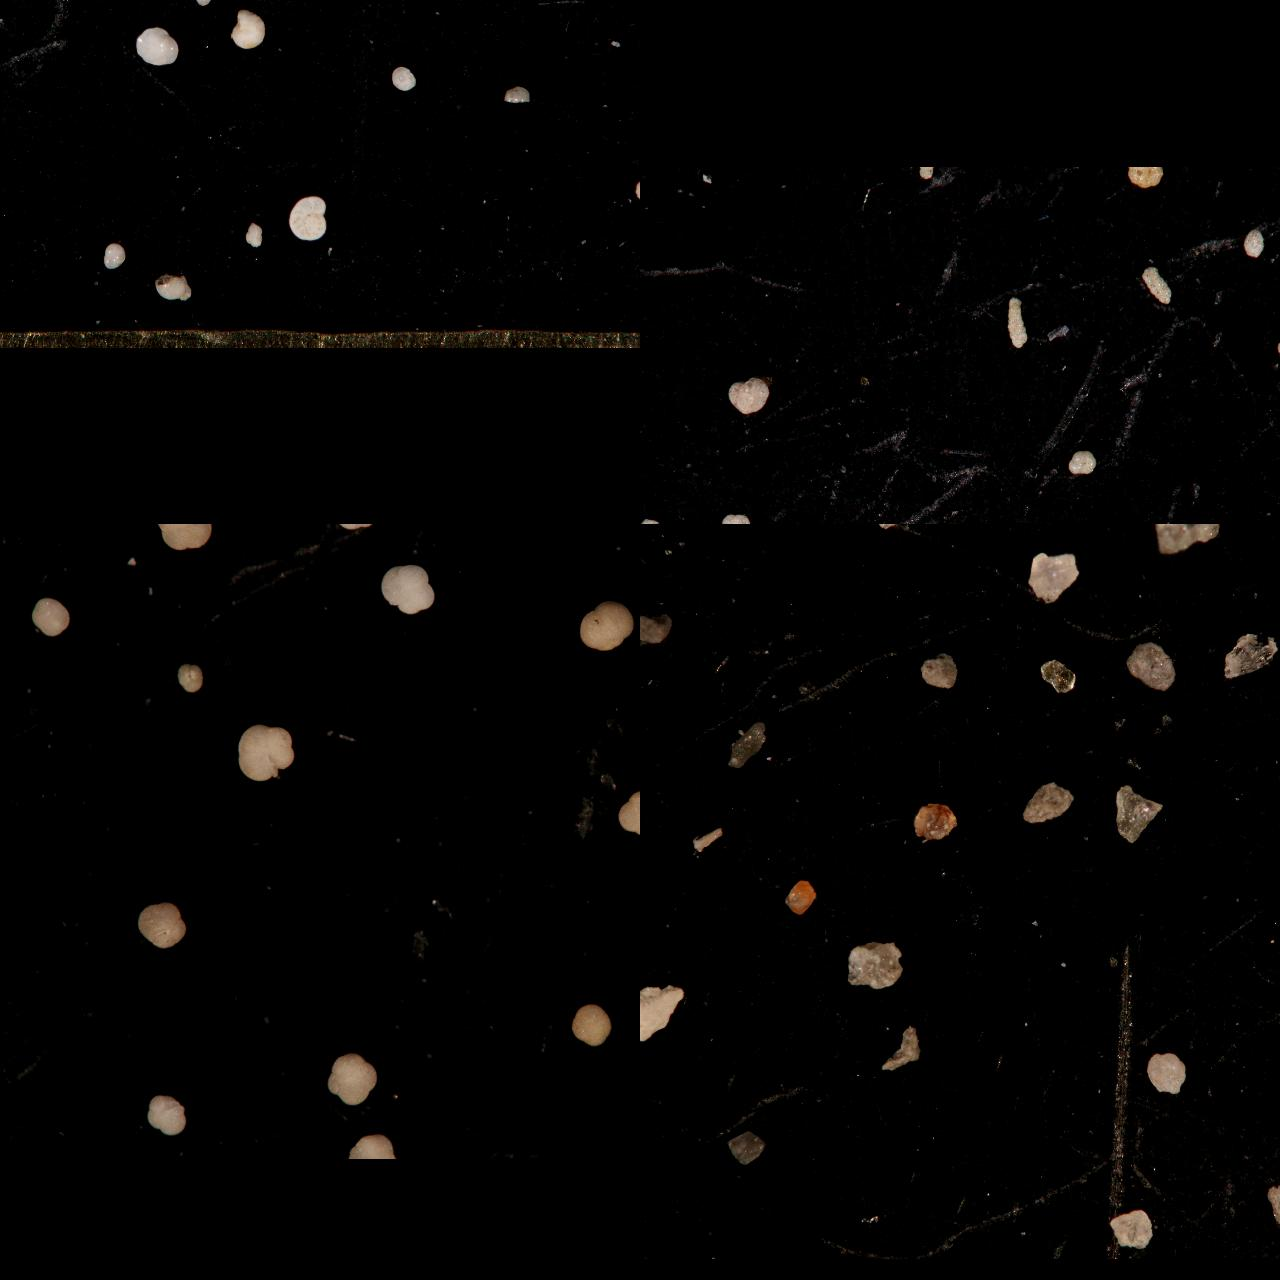Sediment: (1148, 524, 1223, 568), (1027, 551, 1081, 606), (1117, 784, 1165, 844), (845, 940, 905, 988), (1125, 641, 1179, 690), (640, 983, 685, 1042), (1224, 633, 1280, 679), (1022, 781, 1076, 825), (726, 719, 769, 771), (1108, 1208, 1155, 1250), (881, 1024, 922, 1071), (1144, 1051, 1189, 1094), (913, 801, 959, 842), (920, 651, 960, 689), (1040, 658, 1078, 693), (783, 877, 818, 915), (726, 1130, 765, 1164), (640, 610, 674, 646), (874, 524, 918, 550), (640, 799, 659, 856), (690, 826, 726, 852), (646, 524, 690, 543), (1265, 1182, 1280, 1226), (640, 978, 658, 1012), (640, 642, 656, 670), (640, 1114, 651, 1146)
agglutinated: (729, 377, 769, 413), (1141, 266, 1173, 302), (1007, 295, 1029, 347), (640, 356, 666, 394), (1126, 166, 1165, 188), (640, 478, 668, 506), (1242, 227, 1266, 259), (1069, 451, 1097, 475), (640, 322, 656, 350), (640, 192, 656, 220), (640, 251, 655, 278), (640, 444, 655, 465), (640, 166, 656, 185), (720, 515, 753, 524), (918, 166, 934, 179)
calcareous: (0, 0, 50, 40), (290, 196, 328, 240), (136, 27, 178, 66), (230, 9, 266, 48), (165, 0, 211, 22), (156, 273, 192, 300), (86, 0, 131, 18), (392, 66, 418, 90), (103, 243, 127, 270), (383, 0, 415, 18), (0, 227, 18, 259), (245, 222, 265, 248), (505, 86, 532, 104), (468, 0, 502, 14), (154, 0, 184, 15), (124, 0, 154, 15), (0, 0, 21, 21), (272, 0, 302, 14), (339, 0, 368, 14), (601, 0, 632, 13), (580, 0, 605, 15), (116, 0, 137, 16), (114, 0, 147, 11), (260, 0, 290, 12), (0, 0, 19, 18), (0, 0, 19, 18), (440, 0, 464, 13), (0, 61, 13, 86), (15, 0, 43, 11), (474, 0, 499, 11), (195, 0, 217, 12), (438, 0, 463, 11), (542, 0, 566, 11), (0, 120, 11, 144), (579, 0, 602, 11), (256, 0, 279, 11), (206, 0, 230, 11), (0, 0, 18, 14), (0, 0, 16, 14), (392, 0, 413, 11), (0, 30, 11, 52), (617, 0, 636, 11), (338, 0, 358, 11), (633, 179, 640, 207), (535, 0, 556, 9), (383, 0, 404, 9), (319, 0, 340, 9), (563, 0, 586, 8), (0, 0, 13, 12), (0, 0, 12, 11), (0, 0, 11, 12), (0, 0, 11, 11), (0, 0, 11, 11), (0, 0, 11, 11)
planktic: (236, 723, 297, 783), (576, 599, 636, 652), (325, 1051, 379, 1107), (381, 563, 437, 615), (136, 900, 190, 949), (570, 1002, 614, 1046), (145, 1092, 189, 1136), (30, 597, 72, 638), (155, 524, 215, 552), (346, 1131, 399, 1158), (566, 524, 621, 549), (302, 524, 356, 549), (615, 789, 640, 837), (333, 524, 376, 547), (176, 662, 206, 694)
